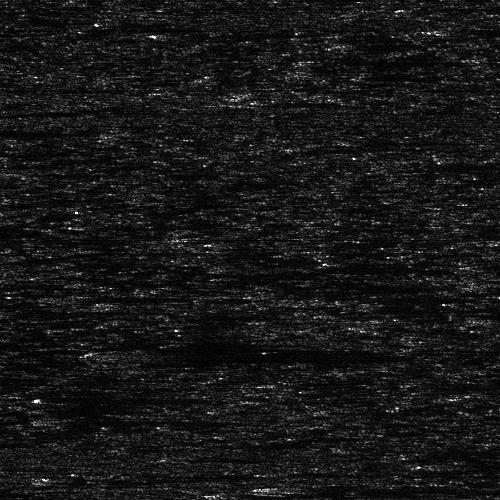object: (61, 342, 176, 363), (229, 479, 312, 496), (16, 389, 69, 406), (413, 25, 496, 32), (60, 292, 123, 301), (412, 461, 465, 466), (60, 417, 101, 422), (0, 308, 25, 315)
shadow: (119, 342, 369, 363), (271, 479, 500, 496), (43, 389, 165, 406), (92, 292, 214, 301), (81, 417, 266, 422), (0, 492, 109, 500), (5, 308, 125, 315), (0, 125, 74, 134), (454, 25, 500, 32), (438, 461, 500, 466)
